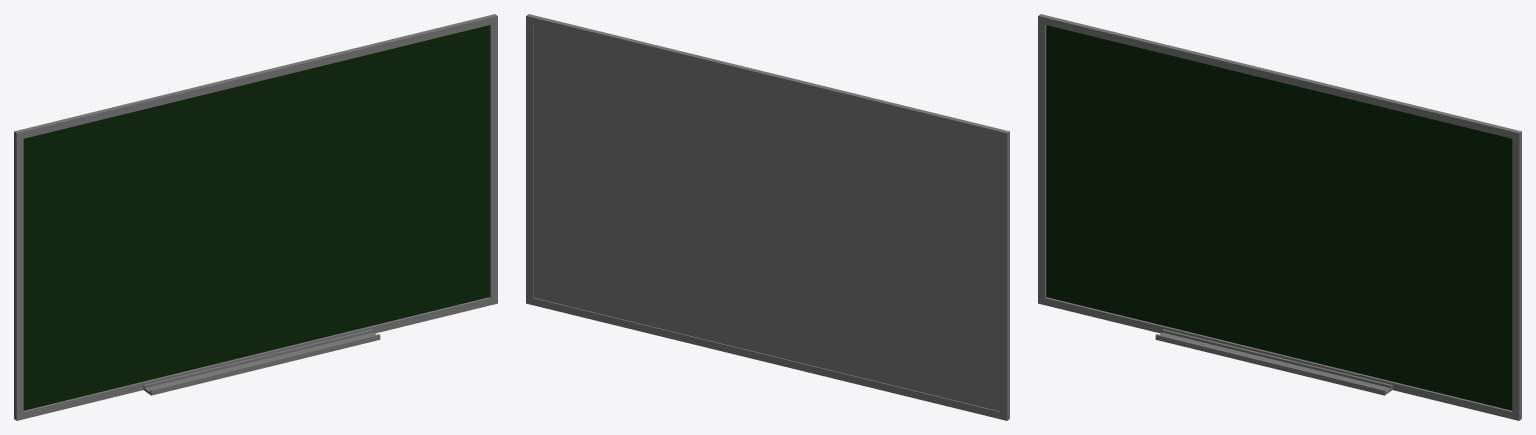
File: Board.FBX
3 views of the same model, side by side, from view 1: azimuth 30°, elevation 25°; view 2: azimuth 150°, elevation 25°; view 3: azimuth 330°, elevation 25° (orthographic).
Parts seen in each view (by area): view 1: Box012; view 2: Box012; view 3: Box012.
Part boxes in pixels (x1,y1,x2,y2): Box012: [14, 14, 497, 420]; Box012: [526, 14, 1009, 420]; Box012: [1038, 14, 1521, 420].
Size of the model in its own units: 82.68 by 47.24 by 3.31.
